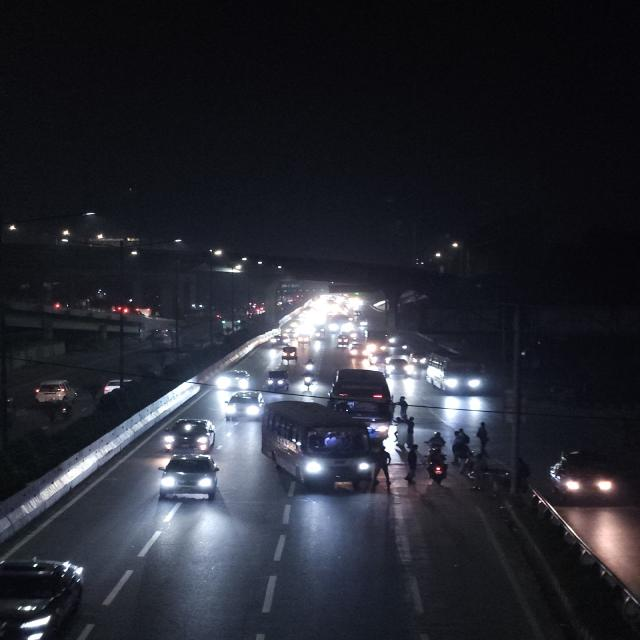bus: (260, 398, 378, 492), (329, 368, 396, 430), (423, 350, 488, 396), (329, 314, 353, 334)
car: (1, 554, 91, 640), (546, 447, 621, 507), (154, 452, 227, 502), (159, 416, 218, 454), (220, 389, 266, 423), (31, 378, 76, 406), (216, 366, 252, 392), (101, 376, 138, 396), (384, 356, 413, 376)
cng: (263, 367, 290, 392), (280, 345, 300, 365), (347, 343, 368, 359), (296, 334, 311, 346)
motorcycle: (424, 450, 451, 488), (298, 372, 318, 396), (302, 357, 319, 376)
pedestrian: (448, 428, 473, 467), (404, 441, 422, 484), (473, 419, 494, 453), (375, 446, 394, 482), (402, 416, 419, 446)
